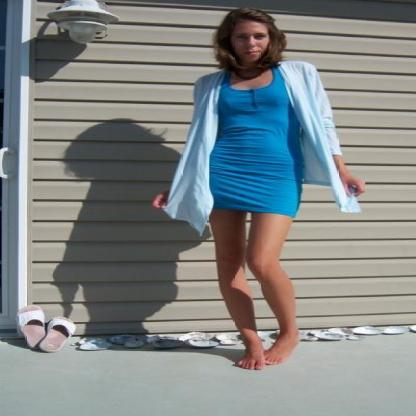jacket: (162, 61, 363, 235)
shirt: (209, 75, 306, 216)
